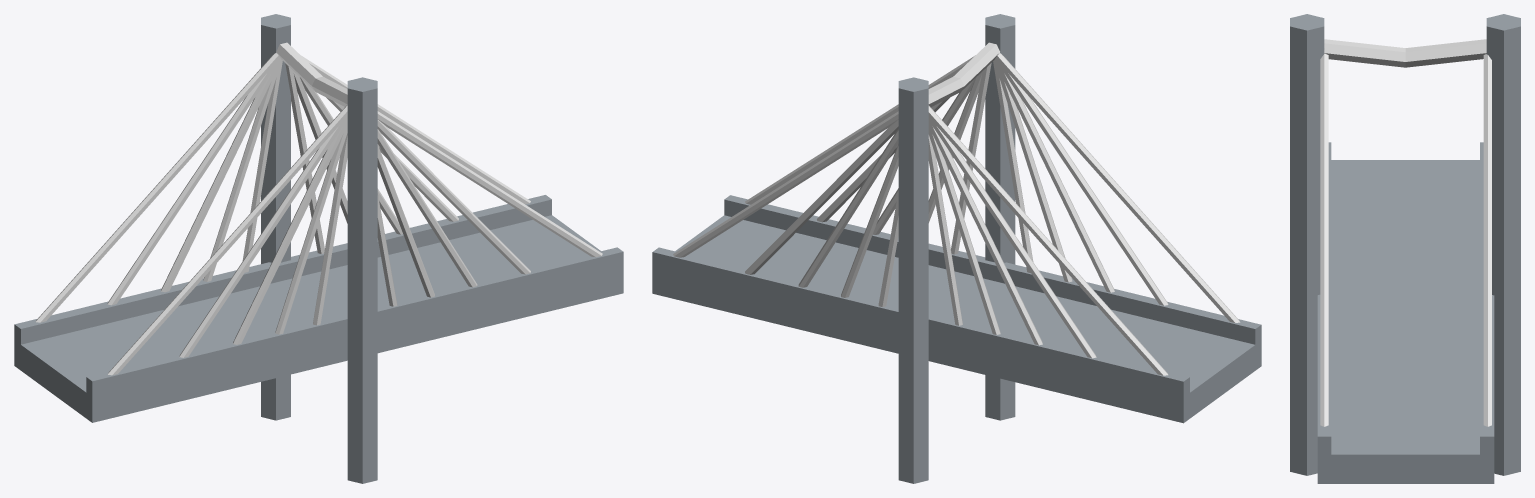
File: CoolBridge.FBX
3 views of the same model, side by side, from view 1: azimuth 30°, elevation 25°; view 2: azimuth 150°, elevation 25°; view 3: azimuth 270°, elevation 25° (orthographic). The views are drawn at different scales.
Visible parts, largest first — view 1: Box001, Cylinder003, Cylinder002, Cylinder001; view 2: Box001, Cylinder003, Cylinder001, Cylinder002; view 3: Box001, Cylinder002, Cylinder001, Cylinder003.
Boxes of the visible parts, box(x1,y1,x2,y2) form: Box001: box(14, 195, 623, 422); Cylinder003: box(35, 42, 602, 375); Cylinder002: box(347, 77, 377, 483); Cylinder001: box(261, 14, 290, 420); Box001: box(652, 195, 1261, 423); Cylinder003: box(673, 42, 1240, 375); Cylinder001: box(898, 77, 928, 483); Cylinder002: box(985, 14, 1015, 420); Box001: box(1317, 142, 1494, 483); Cylinder002: box(1290, 14, 1324, 475); Cylinder001: box(1486, 14, 1520, 475); Cylinder003: box(1320, 39, 1491, 426).
Bounding box in the file's own units: 35.45 × 11.74 × 25.
